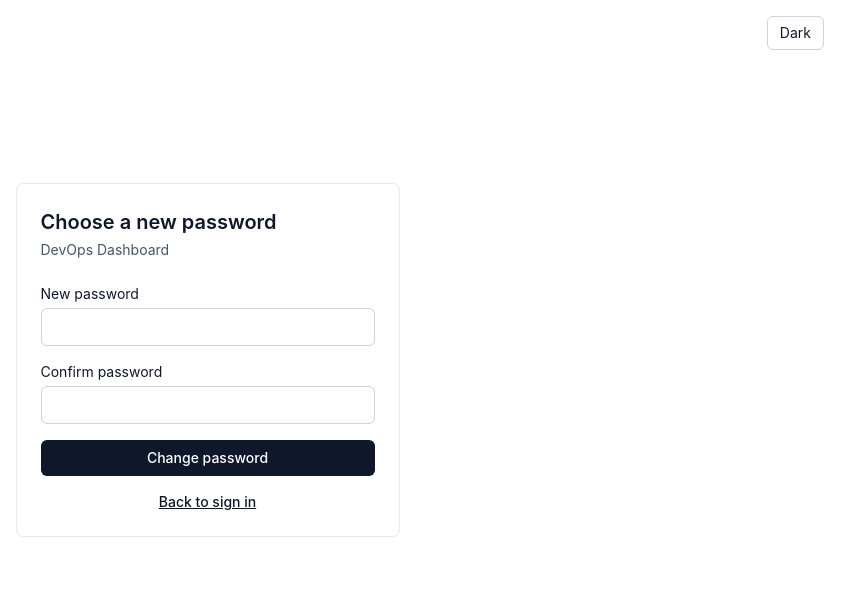
Scenario: authentication flow › password reset › offers a new link when the token has expired
This screenshot has width=841, height=590.
Type "a-new-password" into the password field labelled "New password".
click(208, 327); type("a-new-password")  # box [40,308,374,346]
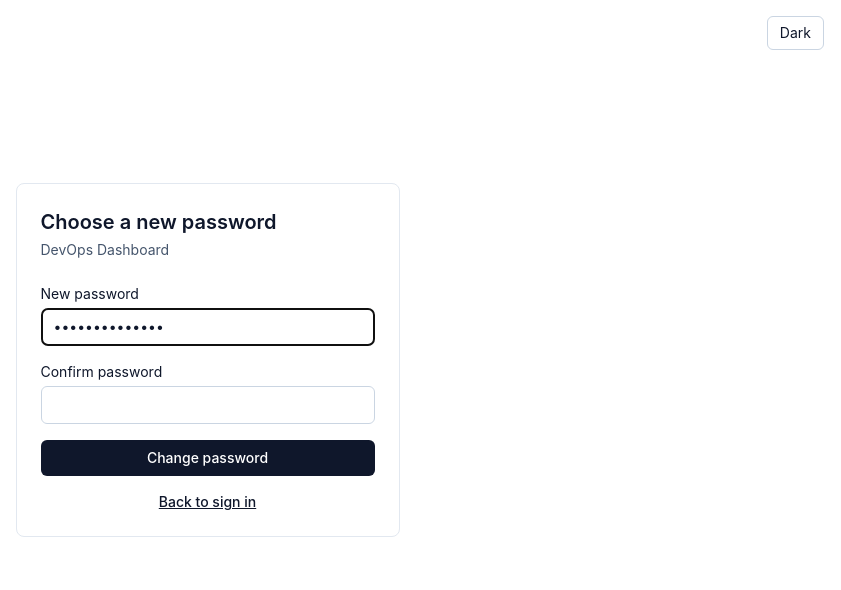
Type "a-new-password" into the password field labelled "Confirm password".
click(208, 405); type("a-new-password")  # box [40,386,374,424]
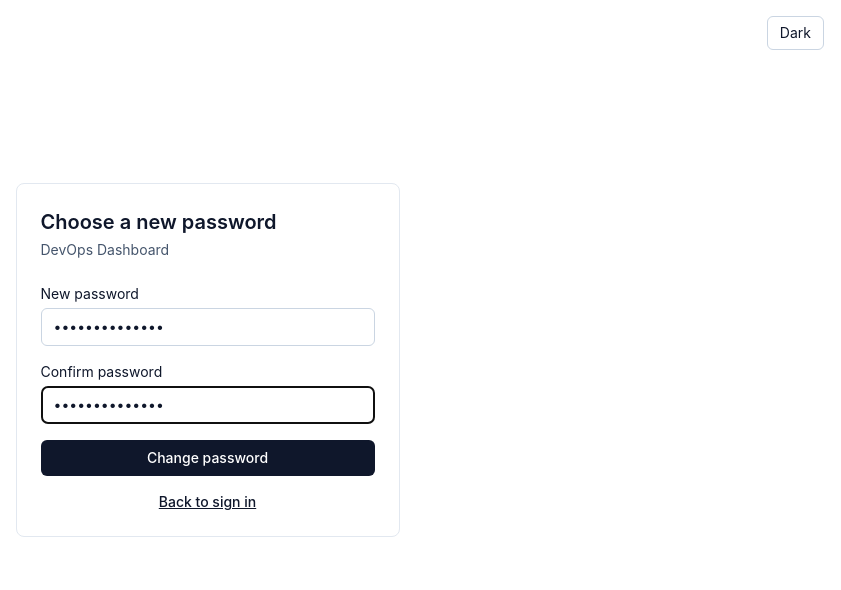
Click the button "Change password".
click(208, 458)  # box [40,440,374,476]
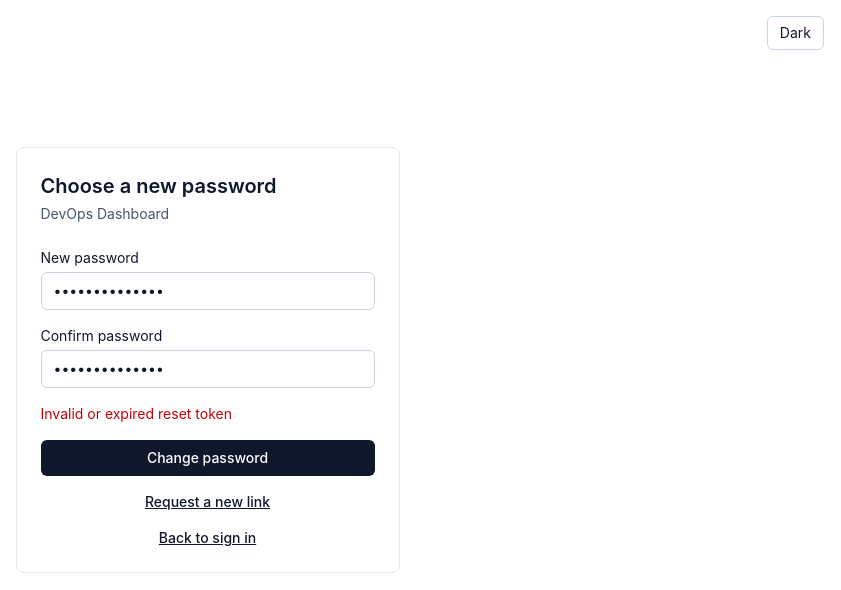
Expected: the message reads "Invalid or expired reset token", [40,405,232,422]
Expected: the link "Request a new link" is shown, [145,493,270,510]
